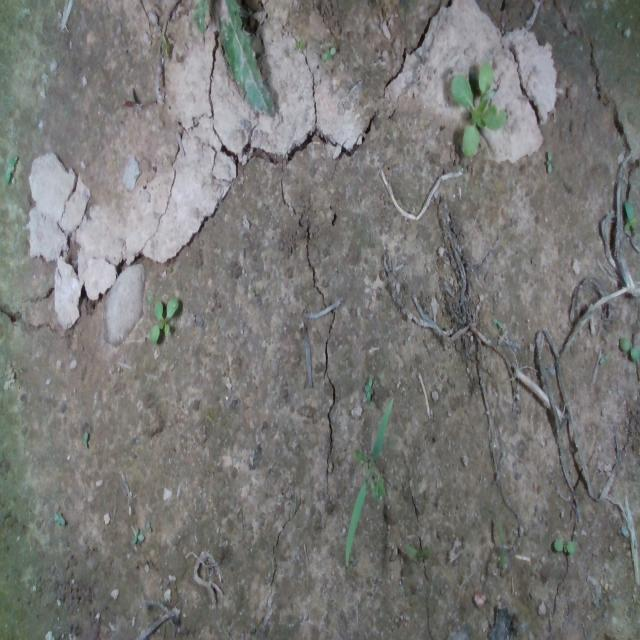weed: (148, 296, 185, 343), (554, 526, 578, 559), (617, 330, 637, 366), (319, 38, 335, 67), (542, 145, 556, 177), (363, 369, 372, 403)
